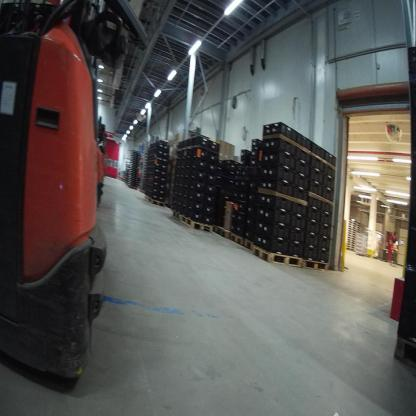pallet: (252, 242, 303, 269), (179, 214, 215, 234), (303, 256, 331, 273), (242, 237, 263, 254), (142, 194, 166, 208), (229, 232, 244, 250), (216, 223, 230, 240), (171, 210, 185, 222)
pallet_truck: (1, 3, 126, 400)
